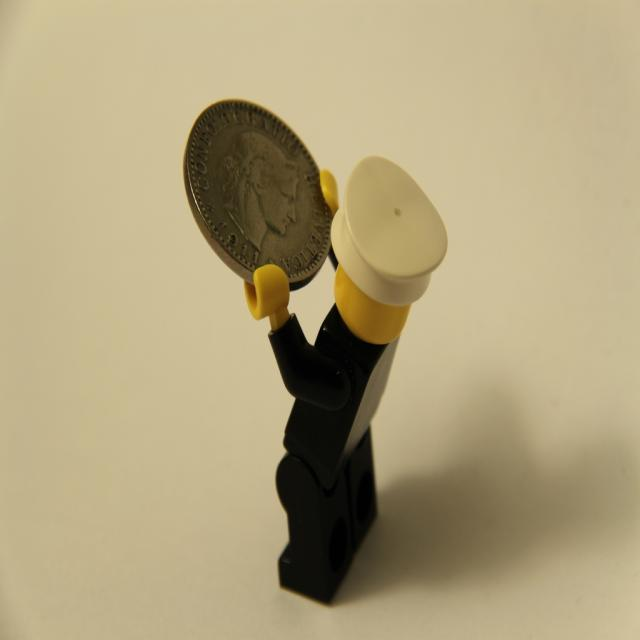Coin: (184, 92, 334, 288)
